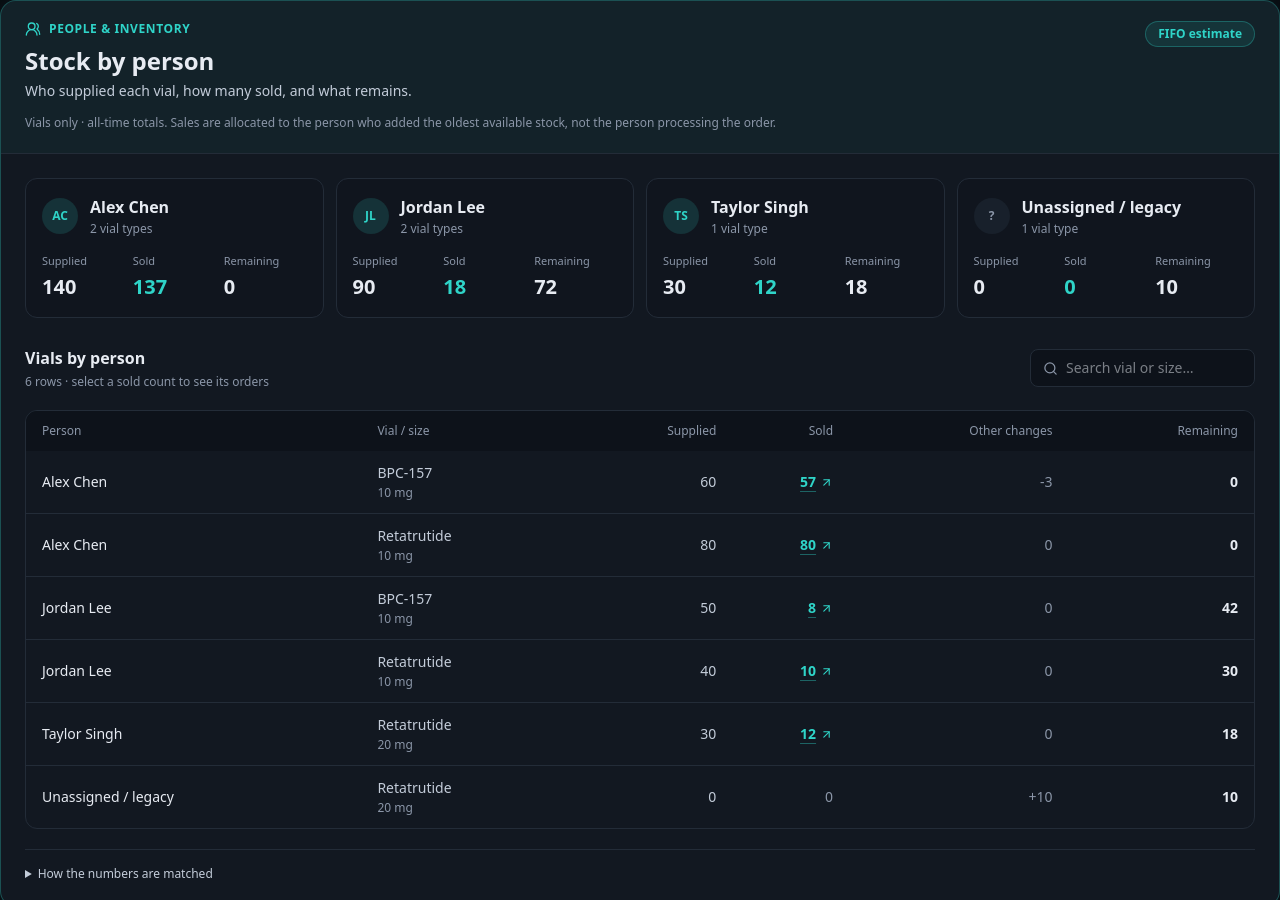
Test: opens the original supplier's order allocation with physical returns accounted for
Click the button named "View sales for Jordan Lee: Retatrutide · 10 mg": (816, 671) x1=800 y1=661 x2=833 y2=681
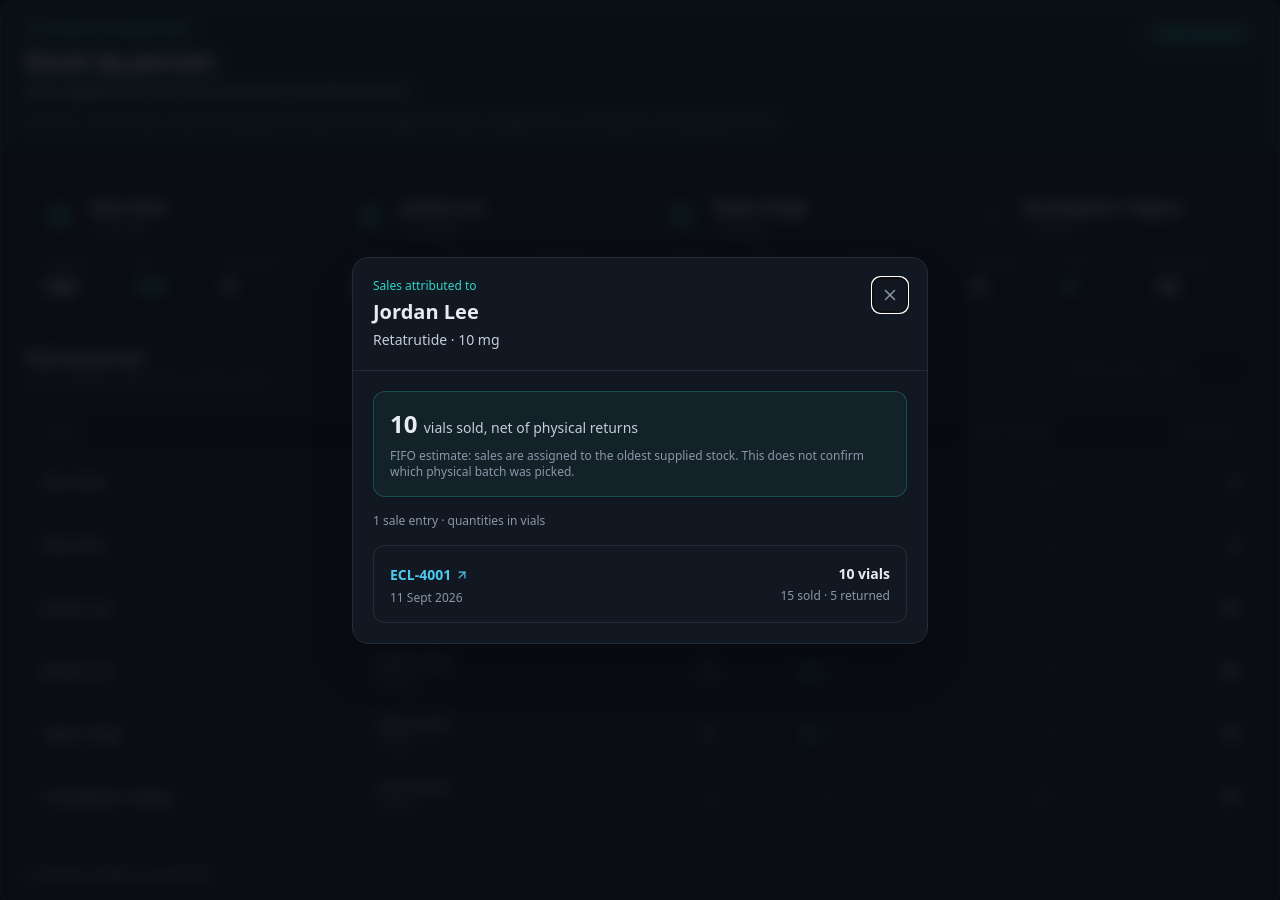
Now the text "15 sold · 5 returned" is shown, box x1=780 y1=588 x2=890 y2=604
Now the text "10 vials" is shown, box x1=838 y1=564 x2=890 y2=582
Click the button named "Close sale allocations": (890, 294) x1=873 y1=278 x2=907 y2=312
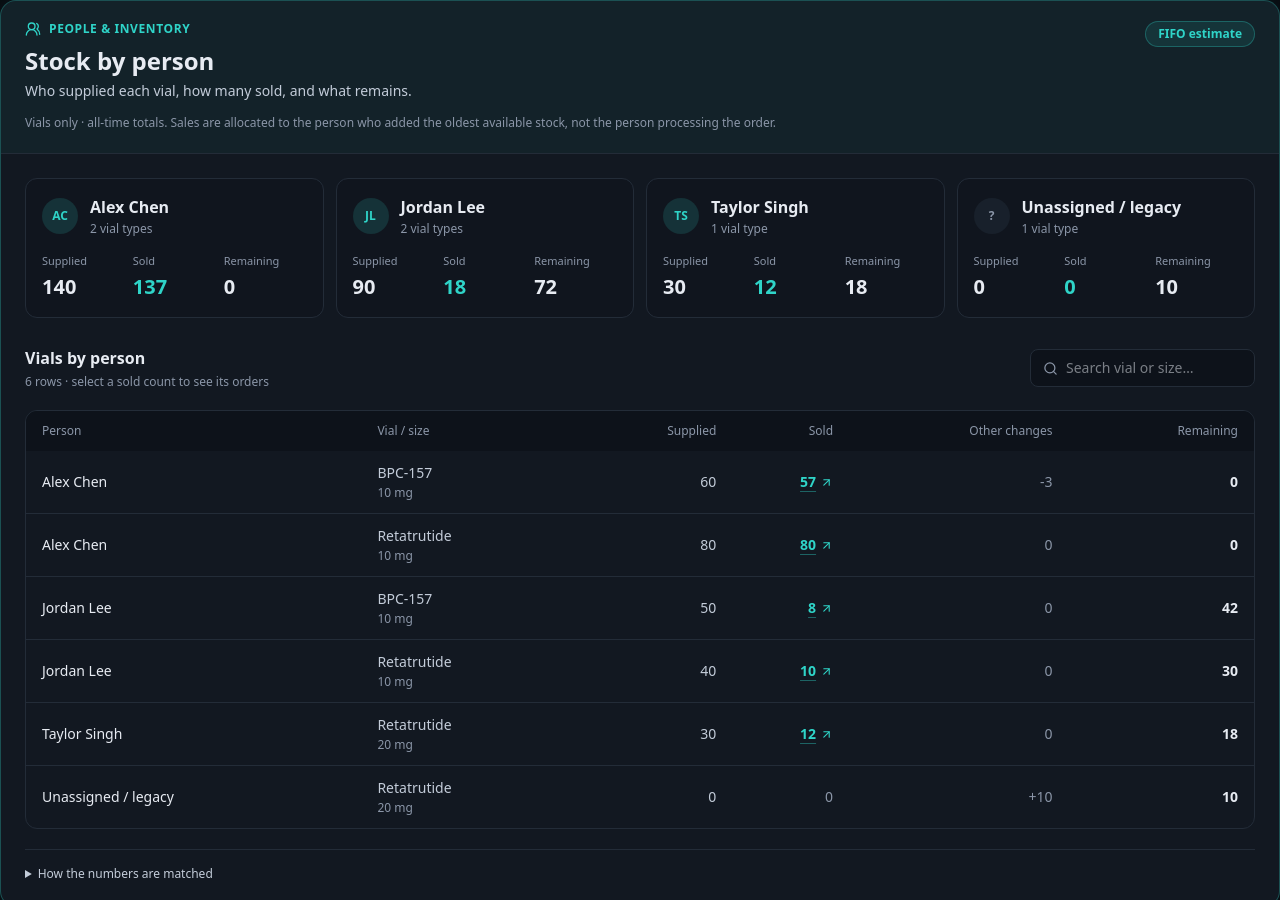
Now the dialog is gone
